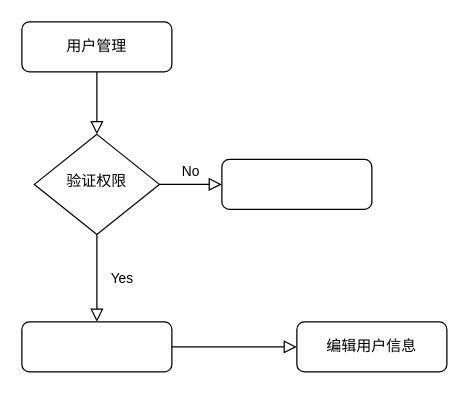
The diagram is 469 pixels wide and 394 high, and some of its shapes have lost their labels. Each missing label, with the centre of its shape:
弹出提示: pixel 296 183
查看用户信息: pixel 96 346
